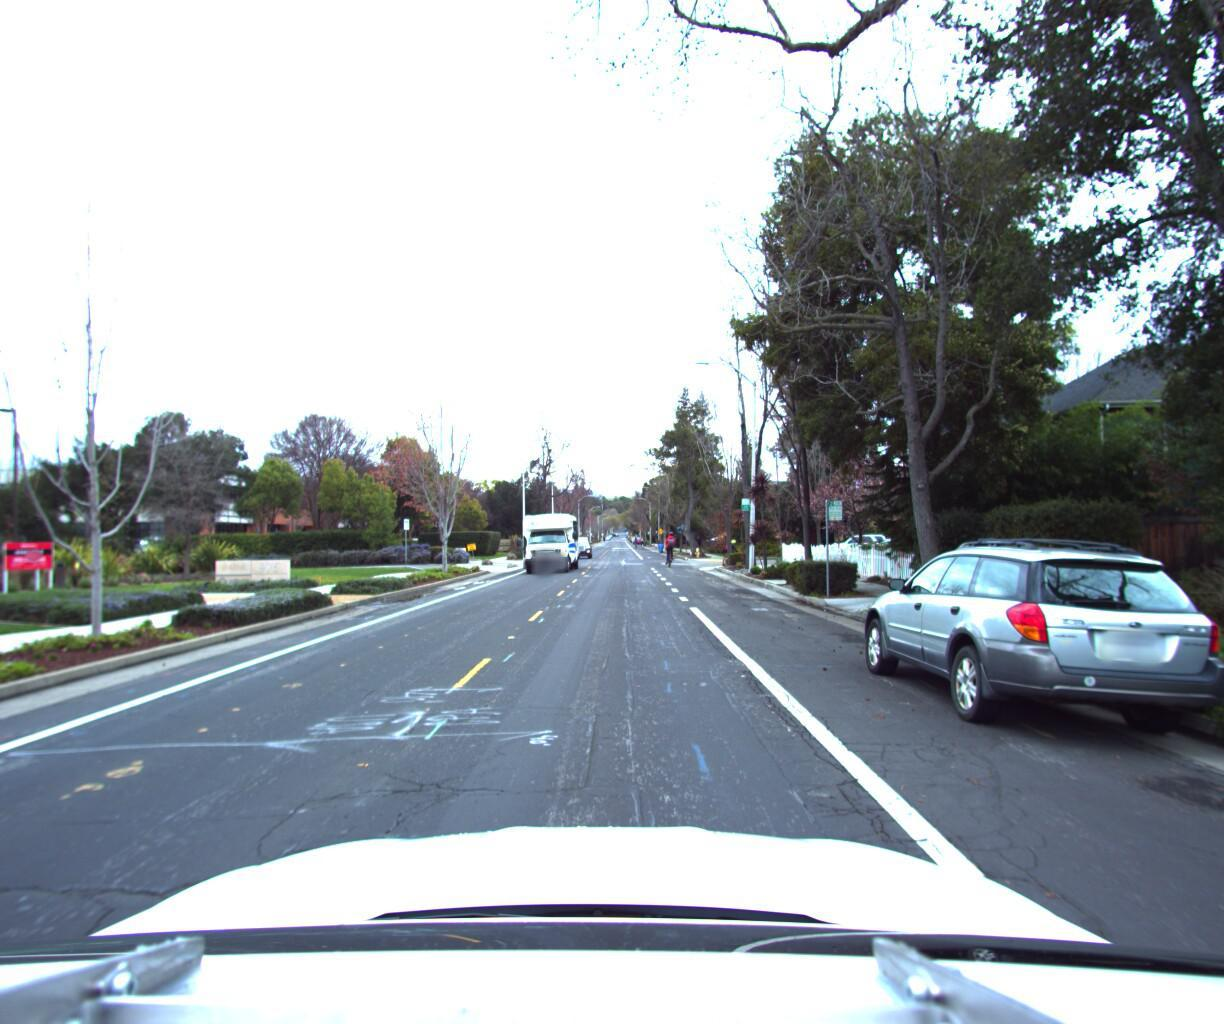bicycle: (714, 542, 750, 575), (662, 536, 684, 576)
bus: (515, 516, 585, 582)
car: (845, 534, 1224, 768), (815, 539, 889, 568), (569, 542, 597, 567)
